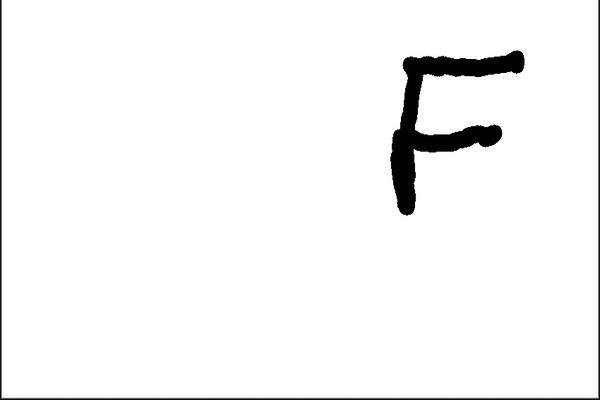F: (386, 48, 527, 218)
